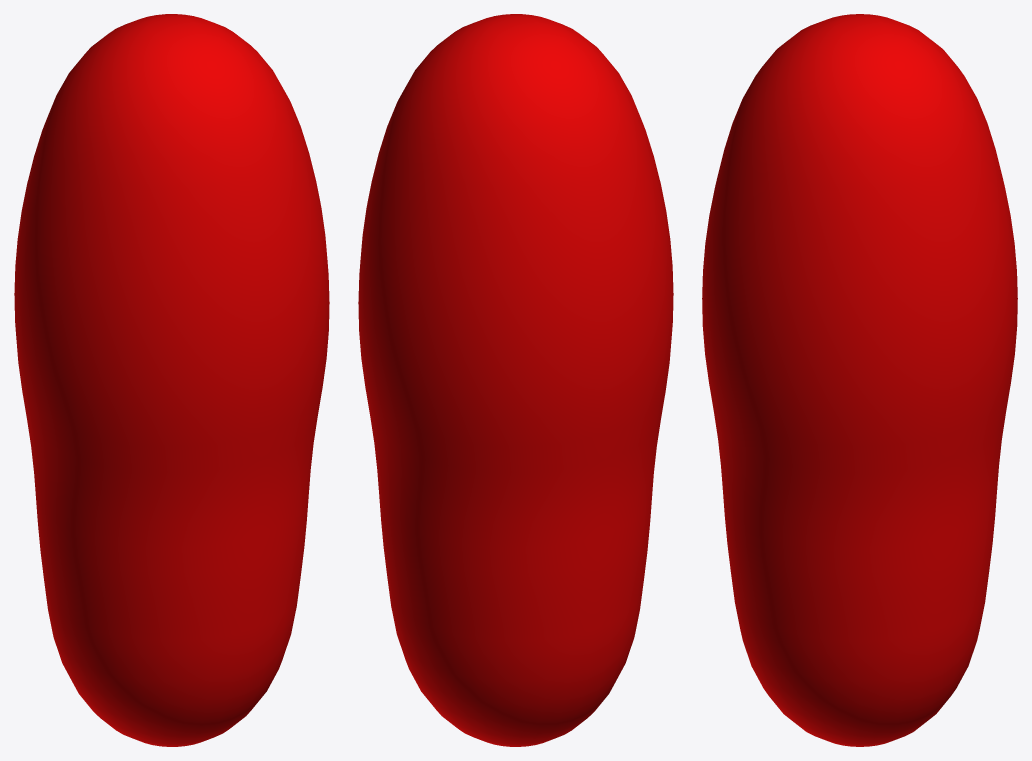
The model's file is LegUpper.dae.
The picture shows the model from 3 angles, left to right: view 1: azimuth 30°, elevation 25°; view 2: azimuth 150°, elevation 25°; view 3: azimuth 270°, elevation 25°; orthographic projection.
Visible parts, largest first — view 1: LegUpper_001; view 2: LegUpper_001; view 3: LegUpper_001.
Boxes of the visible parts, x1,y1,x2,y2 form: LegUpper_001: (14, 14, 329, 746); LegUpper_001: (358, 14, 673, 746); LegUpper_001: (702, 14, 1017, 746).
Size of the model in its own units: 0.1705 by 0.1705 by 0.423.
